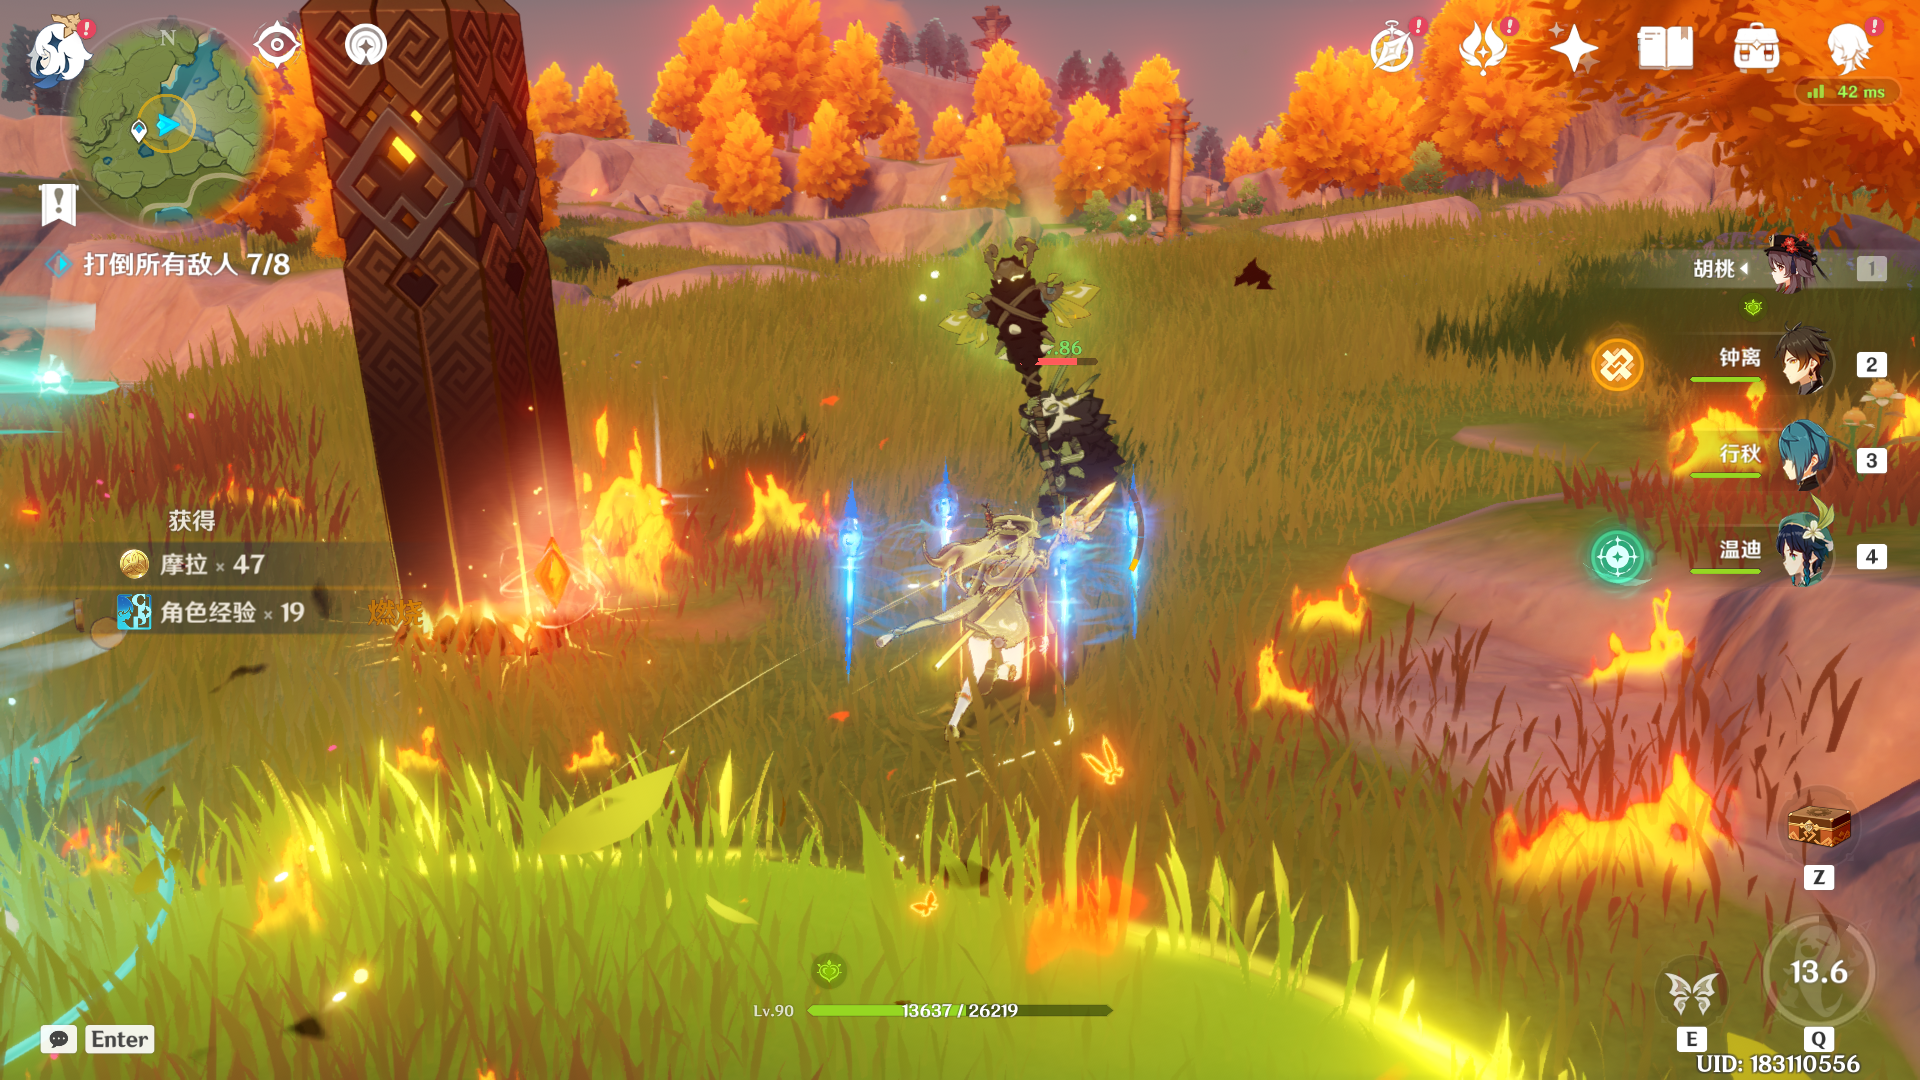character: (934, 495, 1137, 791)
hili: (934, 219, 1197, 568)
